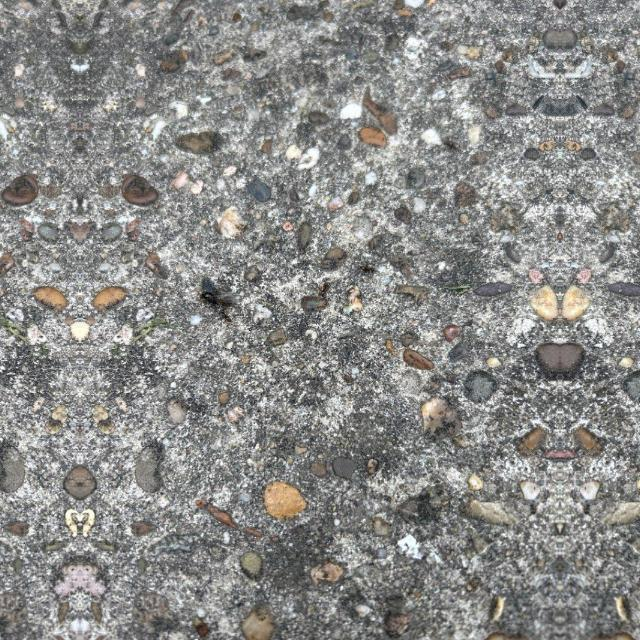Lasius: (194, 280, 242, 308)
